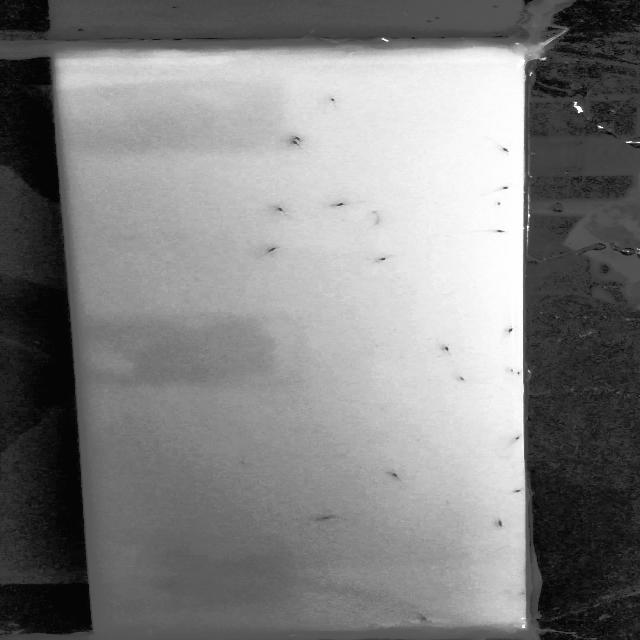shrimp: (491, 144, 520, 160), (498, 320, 522, 337), (494, 180, 514, 196), (490, 226, 510, 241), (321, 93, 342, 107), (504, 364, 522, 380), (332, 200, 354, 213), (412, 613, 434, 626), (272, 202, 290, 217), (487, 514, 507, 527), (280, 140, 304, 150), (318, 511, 334, 526), (438, 342, 454, 356), (263, 243, 283, 254), (511, 433, 529, 445), (162, 578, 176, 593), (289, 132, 306, 144), (492, 197, 509, 209), (450, 374, 467, 386), (391, 471, 406, 482), (372, 254, 391, 262), (510, 488, 522, 500)
